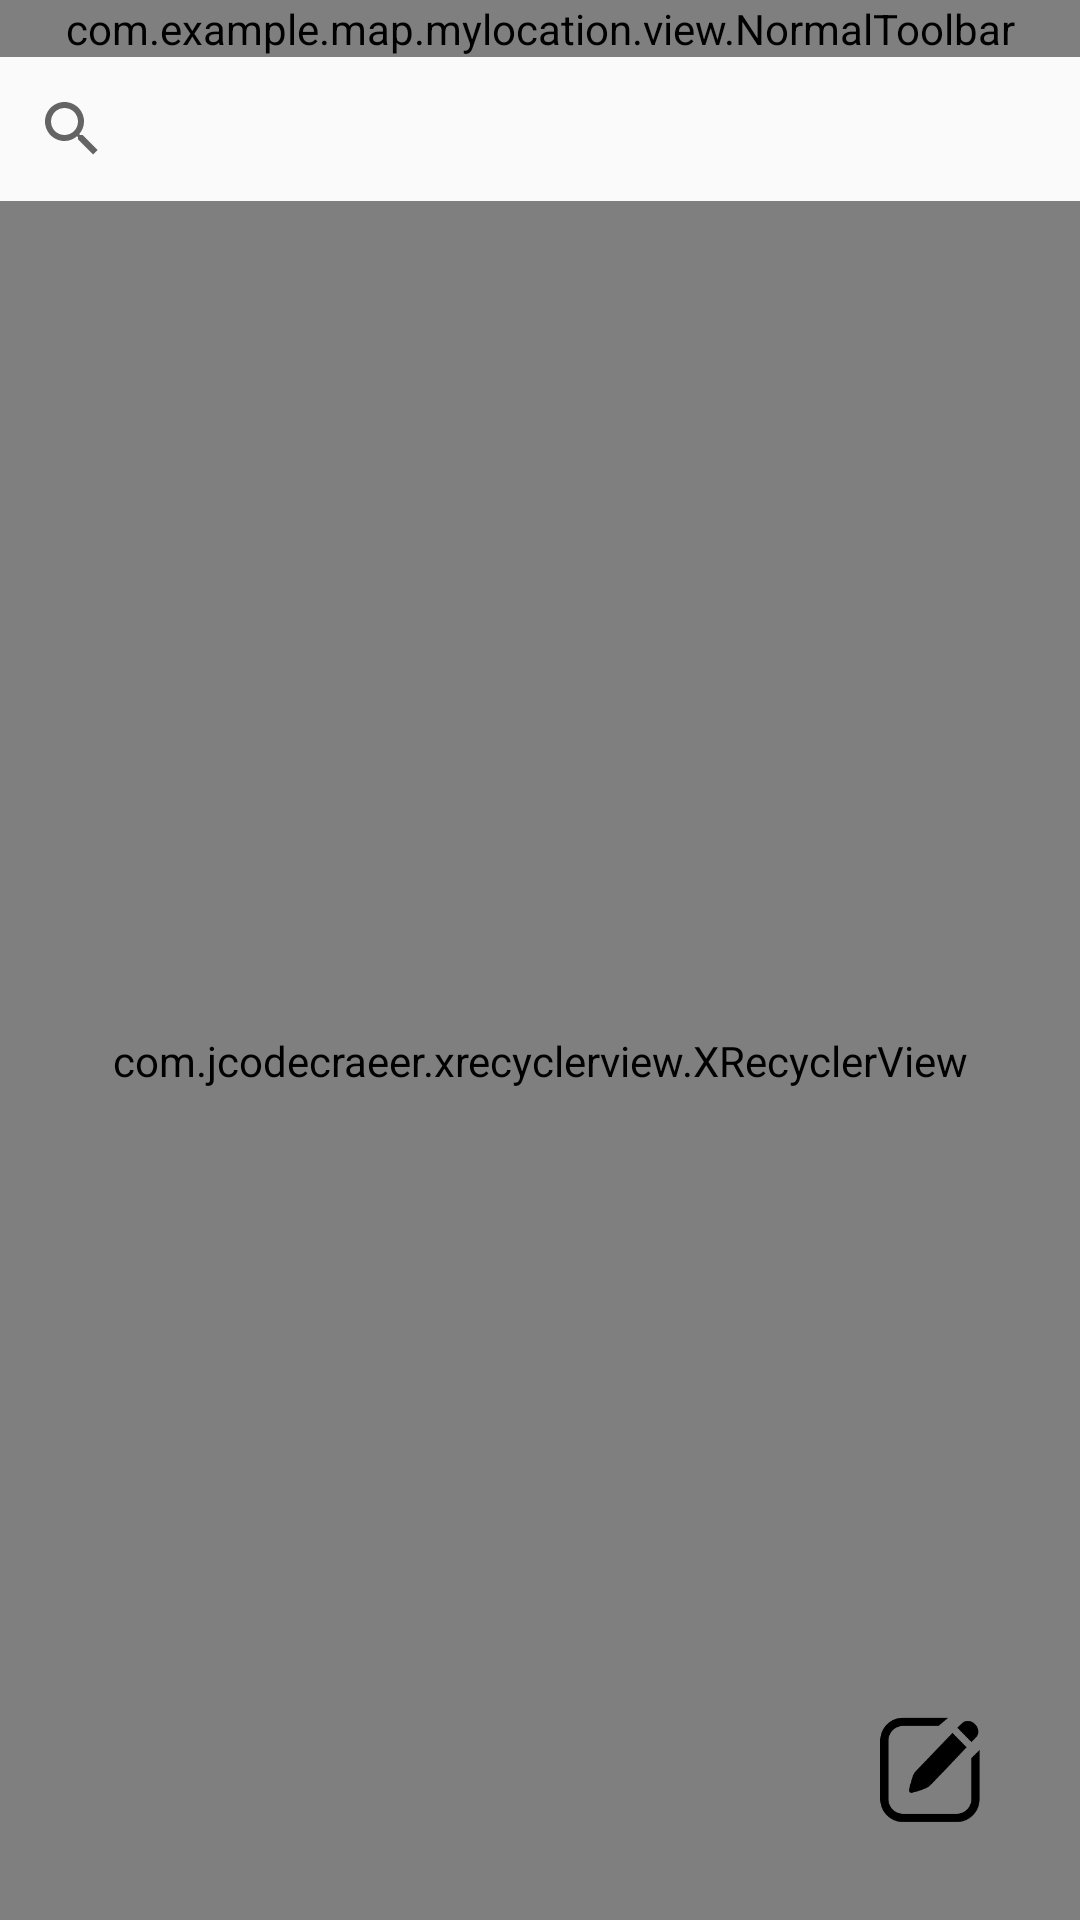

Icons on this 1080px×1920px Android screen, each with the point to tap as point (x, y):
fabu lvs: point (930, 1770)
